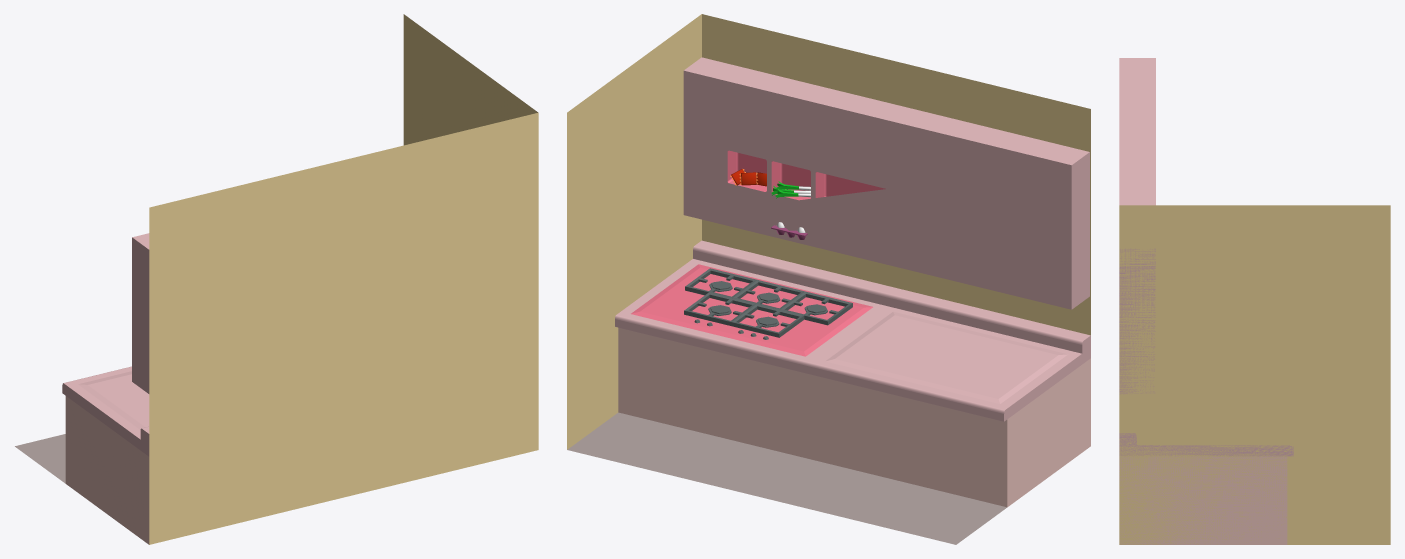
The model's file is background_smooth.fbx.
3 renders of one model, left to right at view 1: azimuth 30°, elevation 25°; view 2: azimuth 150°, elevation 25°; view 3: azimuth 270°, elevation 25°, orthographic.
Parts seen in each view (by area): view 1: BACKGROUND, STOVE; view 2: BACKGROUND, STOVE, STOVE.001; view 3: BACKGROUND, STOVE.
Boxes of the visible parts, x1,y1,x2,y2 form: BACKGROUND: (15, 14, 538, 544); STOVE: (62, 366, 149, 544); BACKGROUND: (567, 14, 1090, 544); STOVE: (615, 240, 1090, 507); STOVE.001: (684, 268, 852, 339); BACKGROUND: (1119, 58, 1390, 544); STOVE: (1119, 433, 1293, 544).
Bounding box in the file's own units: 2126 × 1761 × 1276.
